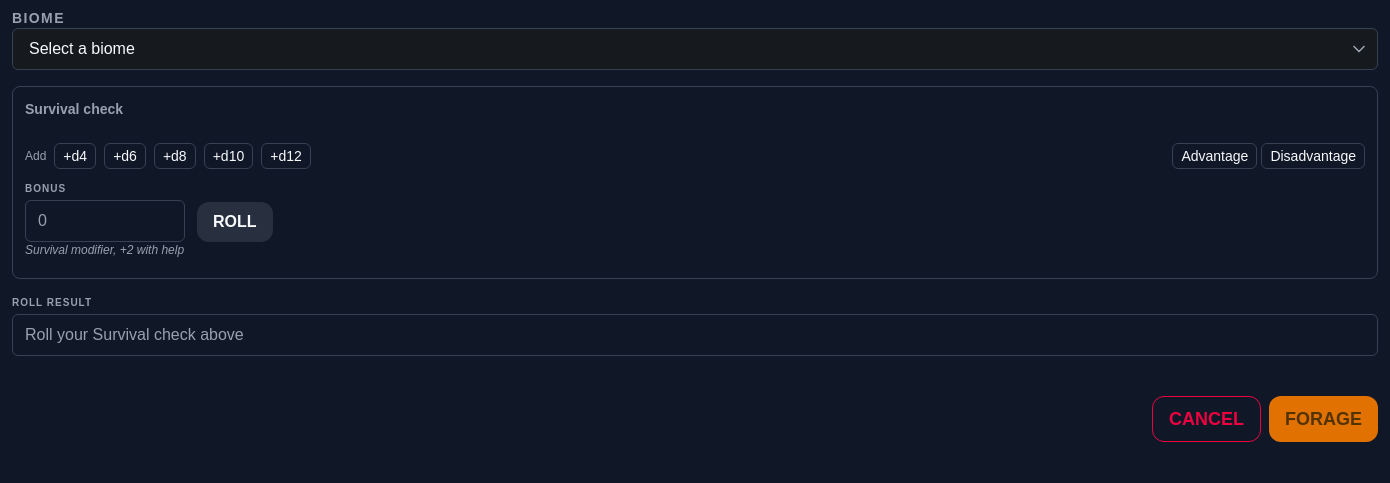
it: components/modals/go-foraging-modal/forage-biome › in Game mode › should forage with the Survival check’s roll
Click the button with test id "Dropdown__button".
click(82, 48)  # box x1=12 y1=28 x2=1378 y2=70
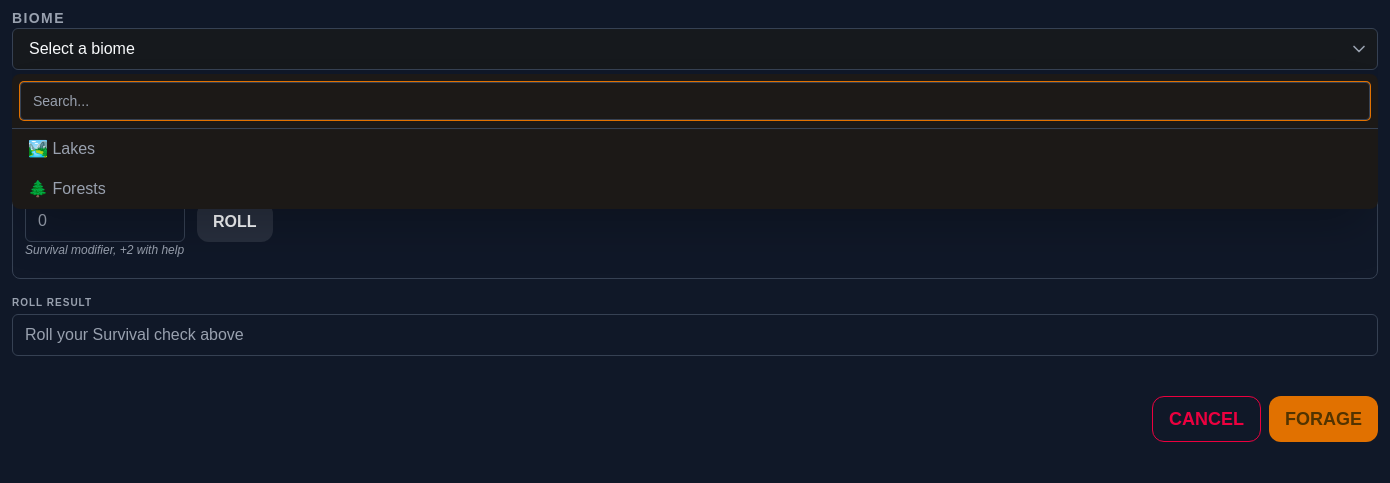
Click the button "🌲 Forests".
click(67, 188)  # box x1=12 y1=169 x2=1378 y2=209
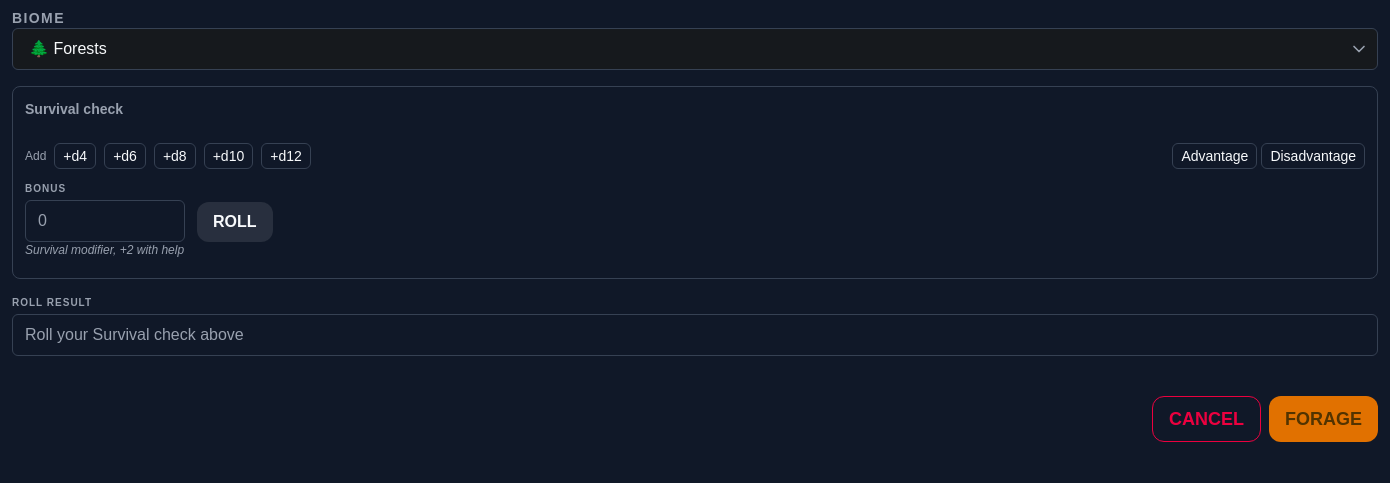
Click the button "Roll".
click(235, 222)  # box x1=197 y1=202 x2=272 y2=242
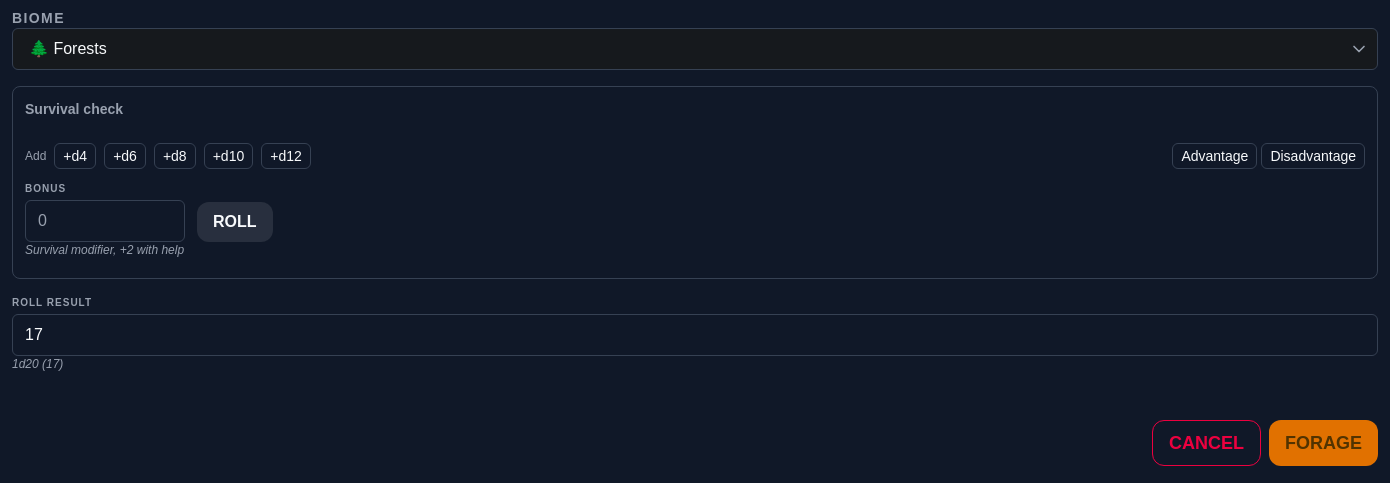
Result: the number field labelled "Roll result" holds "17" at x1=12 y1=314 x2=1378 y2=356
Click the button "Forage".
click(1324, 443)  # box x1=1269 y1=420 x2=1378 y2=466
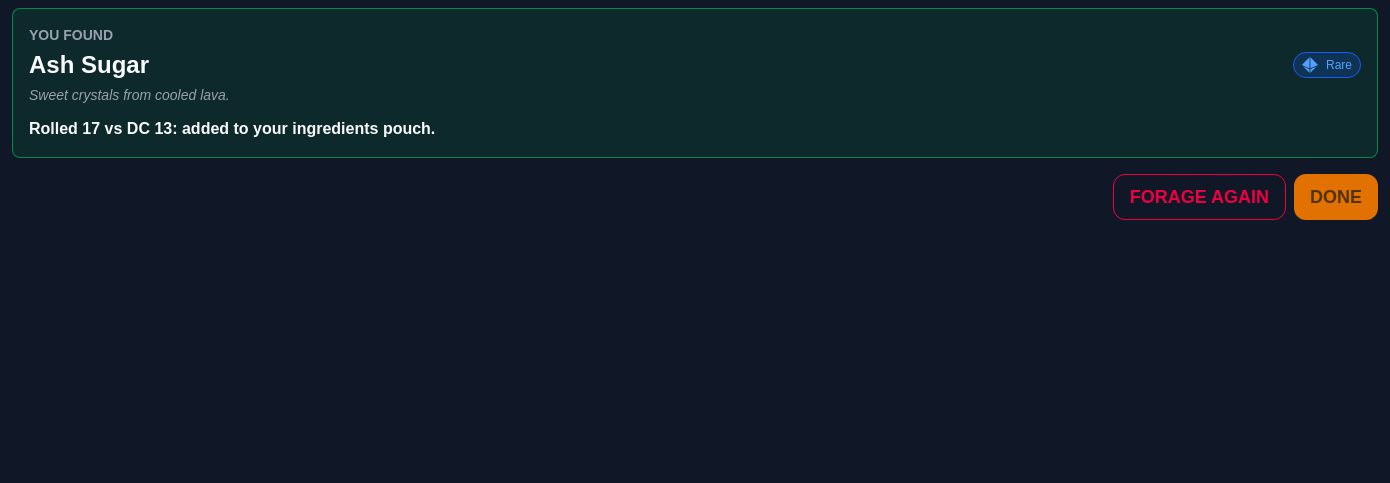
Result: the text "You found" is shown at x1=29 y1=27 x2=113 y2=43
